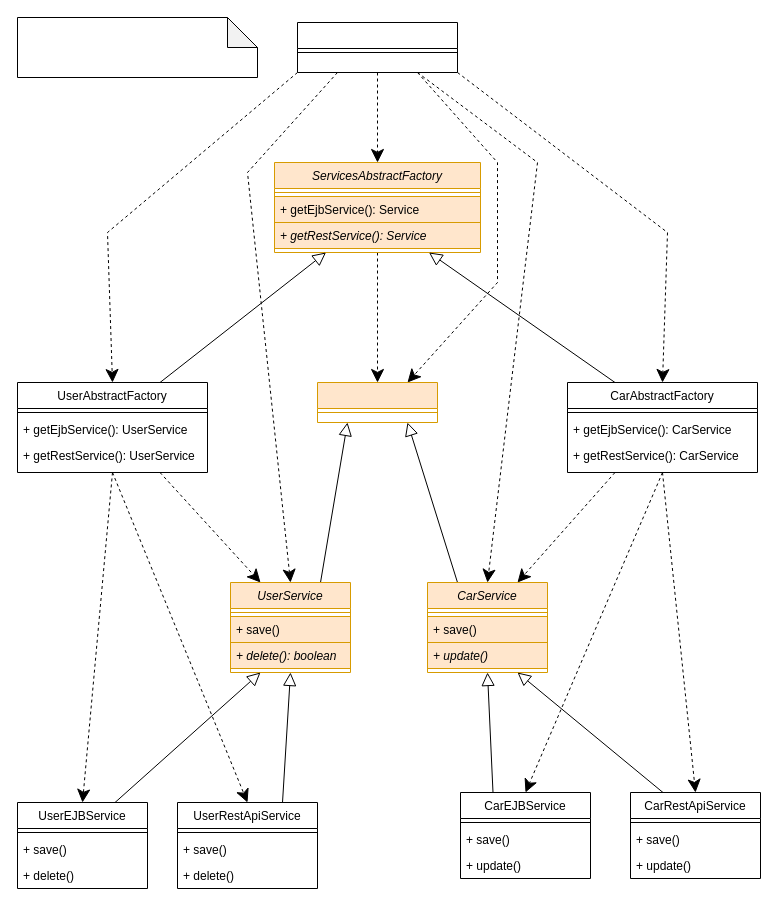
Image size: 778x909. Some labels were removed from this diagram. The centre of each missing label's shape, as x and y in pixels:
Abstract Factory Services (Entity View): [137,47]
Client: [377,47]
Service: [377,402]
